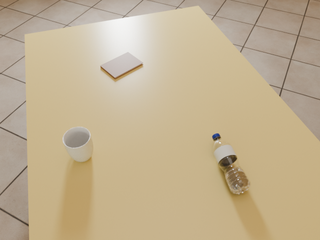book: (101, 52, 143, 79)
bottle: (212, 133, 251, 194)
cup: (63, 127, 93, 162)
